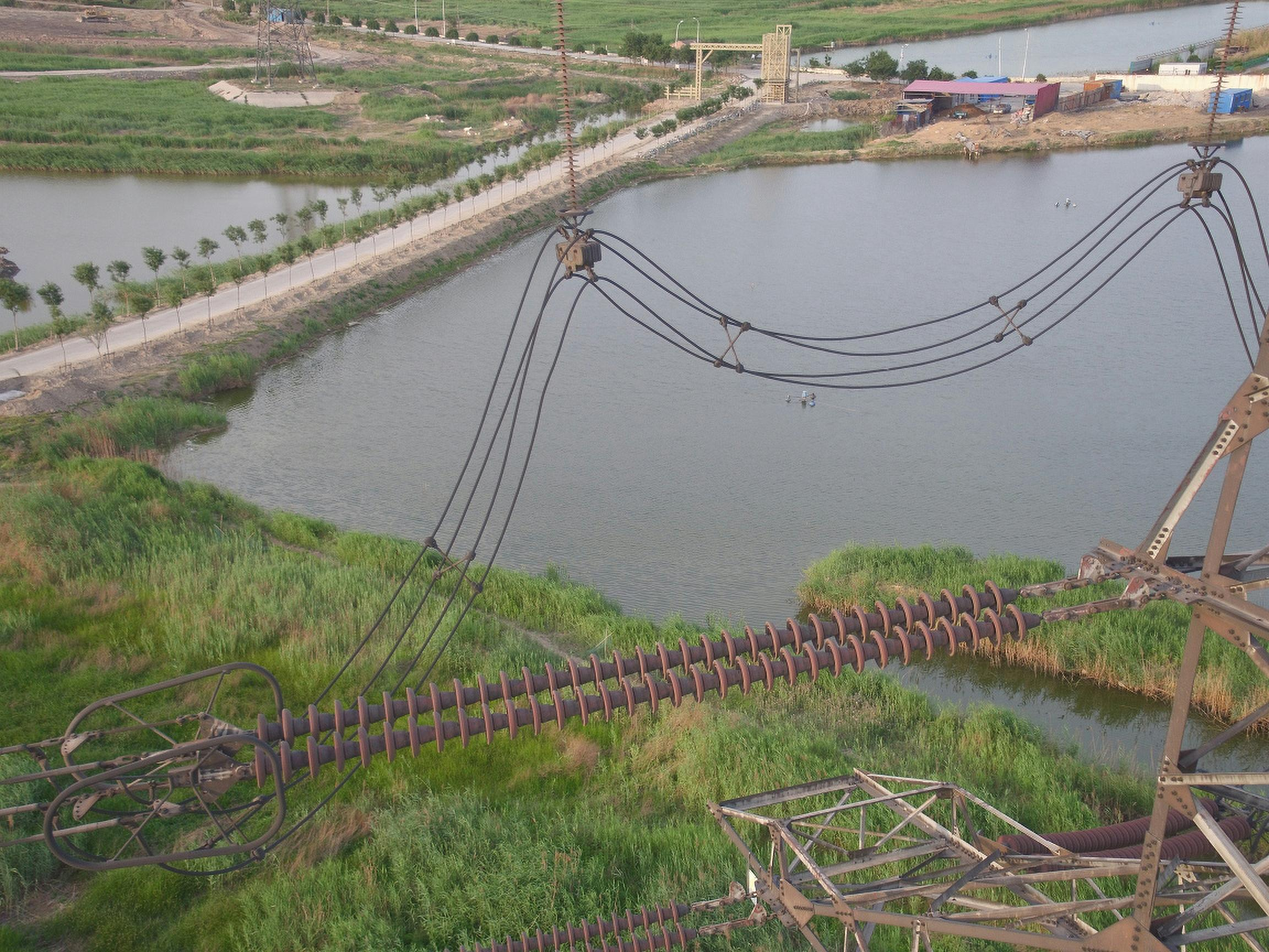insulator: (246, 576, 1026, 794), (994, 794, 1254, 877), (452, 897, 691, 952), (548, 1, 587, 210), (1197, 1, 1246, 142)
